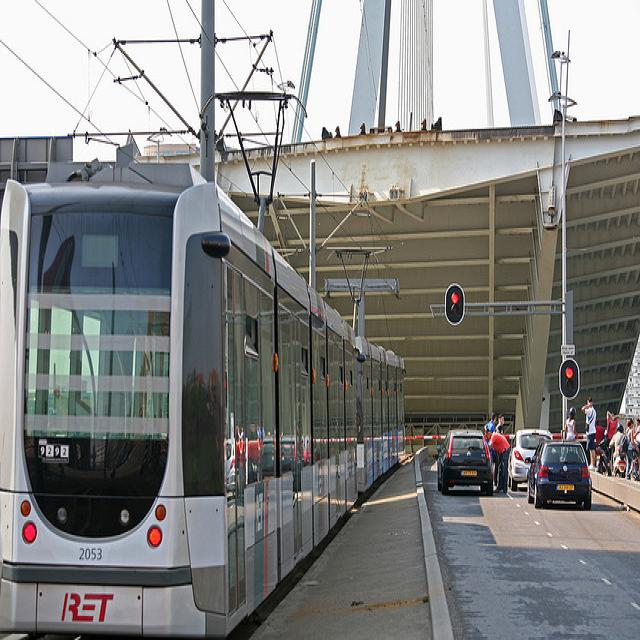motor: (596, 429, 613, 476), (613, 448, 629, 477)
